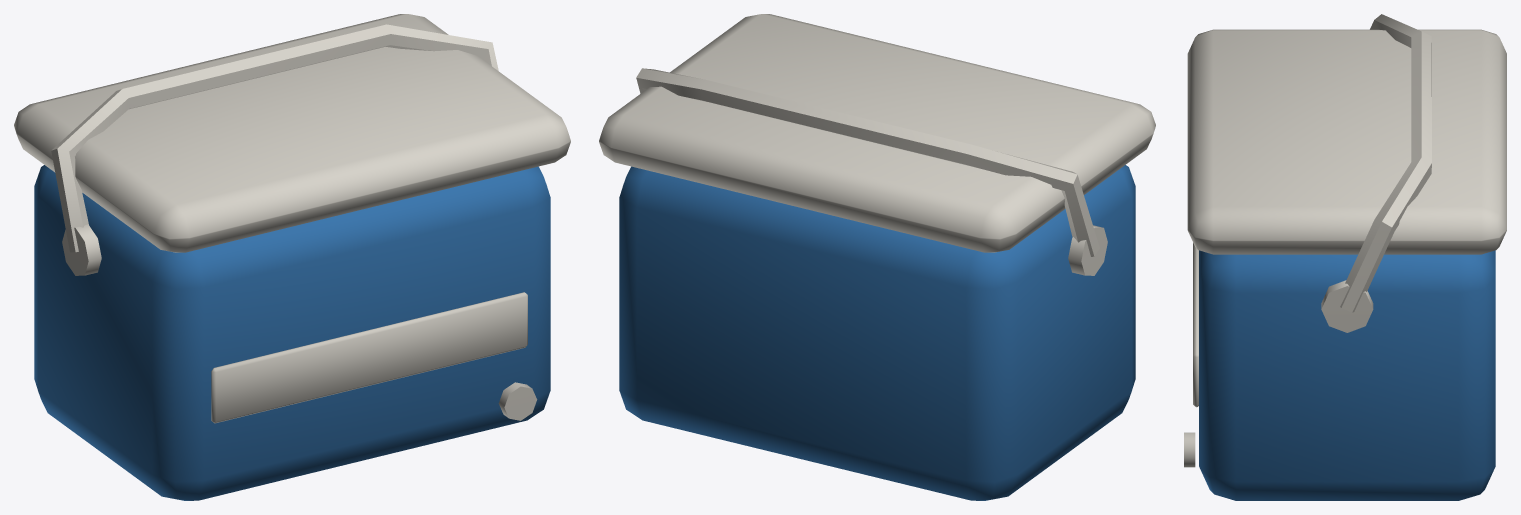
The model's file is beach-cooler.glb.
The picture shows the model from 3 angles, left to right: view 1: azimuth 30°, elevation 25°; view 2: azimuth 150°, elevation 25°; view 3: azimuth 270°, elevation 25°; orthographic projection. The views are drawn at different scales.
Visible parts, largest first — view 1: beach-cooler; view 2: beach-cooler; view 3: beach-cooler.
Part boxes in pixels (bbox=[...]): beach-cooler: bbox=[14, 14, 570, 500]; beach-cooler: bbox=[599, 14, 1155, 500]; beach-cooler: bbox=[1184, 14, 1506, 500].
Bounding box in the file's own units: 0.6682 × 0.486 × 0.435.
